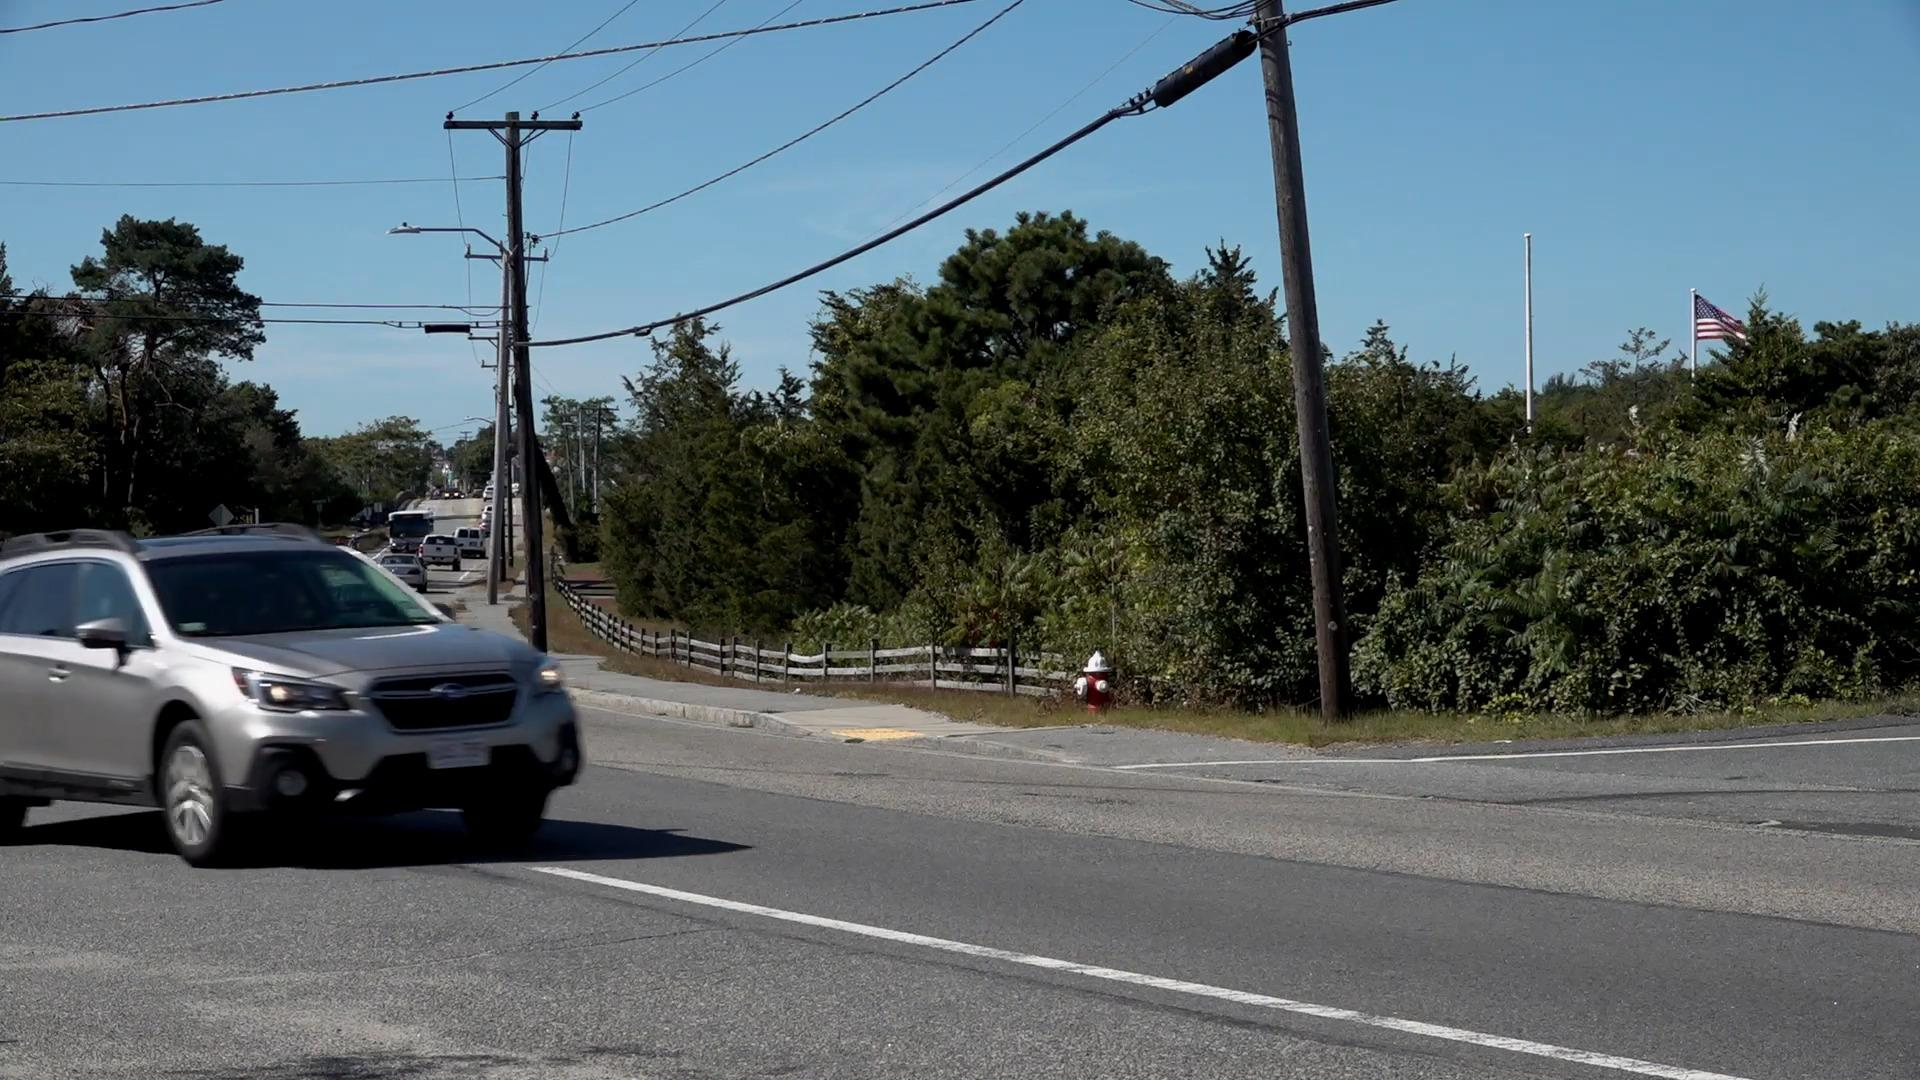suv: (0, 524, 589, 866)
